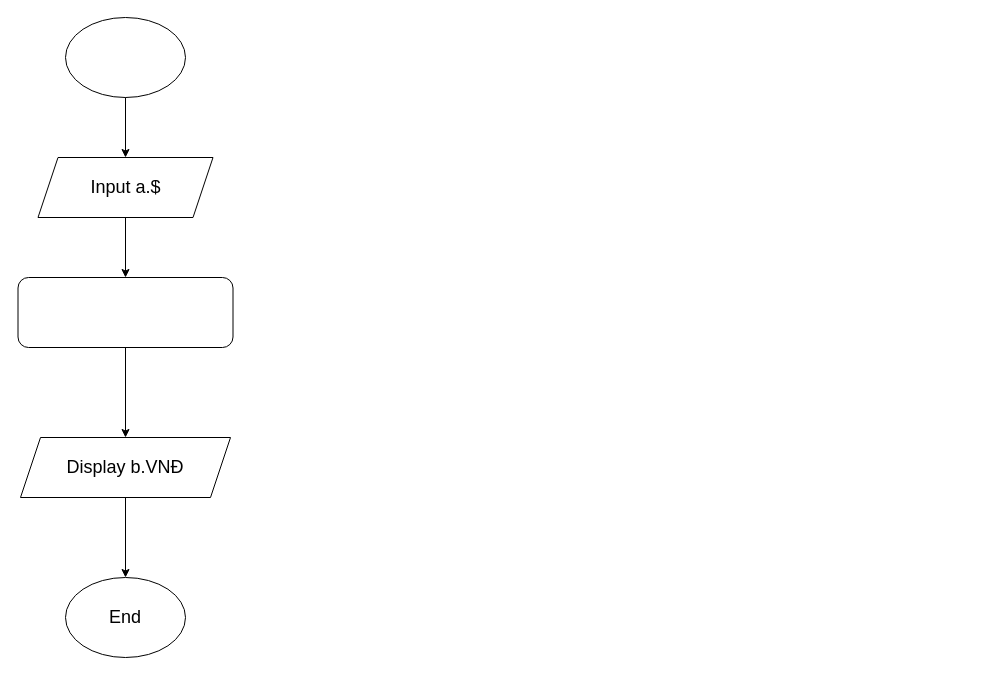
This 997x675 diagram has some shape labels left out. The box of each missing label's shape, as (x1, y1, x2, y2) in pixels:
b.VNĐ = a.$ x 23000: (17, 276, 233, 348)
Begin: (64, 16, 186, 98)
